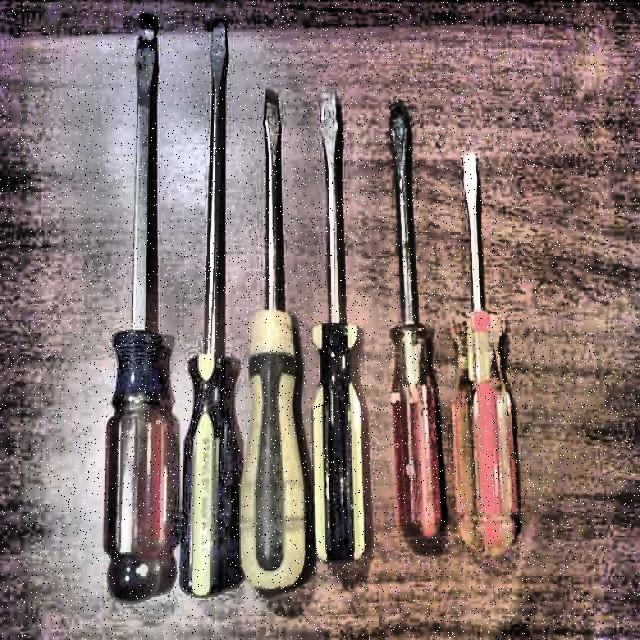screwdriver: (104, 12, 168, 602), (240, 89, 308, 596), (178, 16, 235, 598), (314, 90, 369, 566), (456, 151, 520, 557), (390, 100, 448, 541)
